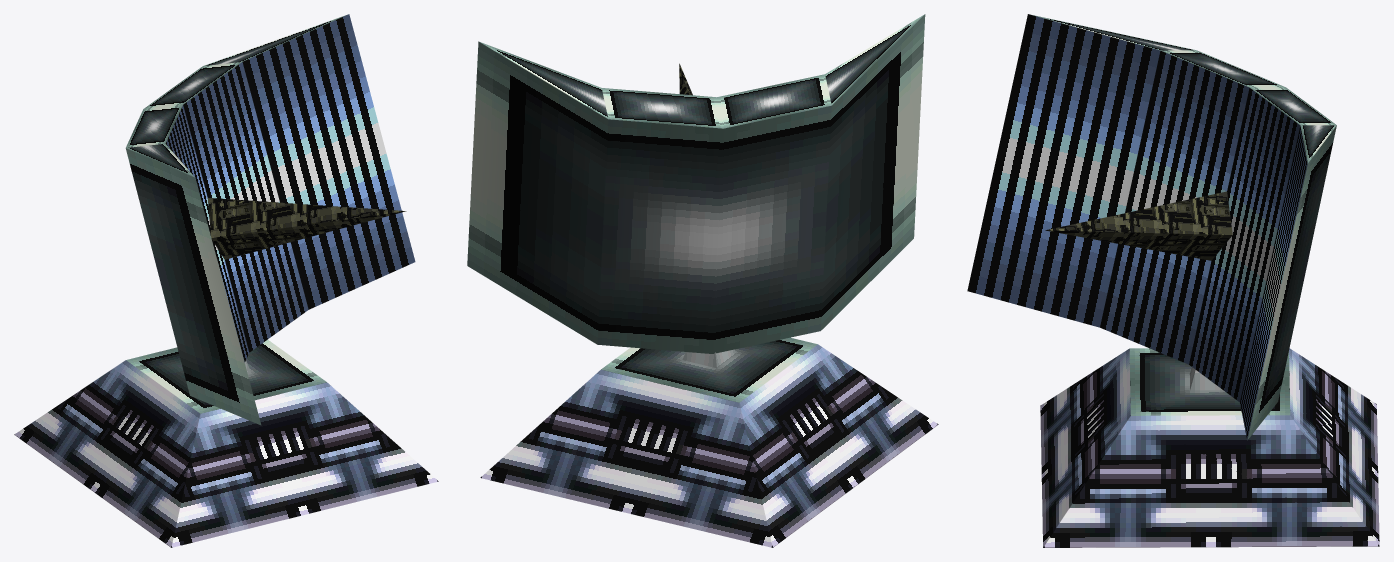
The model's file is satellite dish.dae.
3 renders of one model, left to right at view 1: azimuth 30°, elevation 25°; view 2: azimuth 150°, elevation 25°; view 3: azimuth 270°, elevation 25°, orthographic. The views are drawn at different scales.
Visible parts, largest first — view 1: dish, dbase, dplate2, machine, dplate; view 2: dplate2, dbase, dplate; view 3: dish, dbase, dplate2, machine, dplate.
Part boxes in pixels (x1,y1,x2,y2): dish: (165, 14, 415, 362); dbase: (14, 360, 438, 547); dplate2: (125, 15, 346, 425); machine: (207, 198, 406, 259); dplate: (126, 339, 326, 413); dplate2: (467, 14, 925, 353); dbase: (480, 344, 938, 547); dplate: (601, 337, 817, 402); dish: (967, 14, 1307, 439); dbase: (1040, 348, 1379, 547); dplate2: (1031, 14, 1336, 440); machine: (1045, 191, 1232, 260); dplate: (1129, 348, 1290, 415).
Bounding box in the file's own units: 193 × 200 × 186.
Materials: 4 (4 with a texture image).
